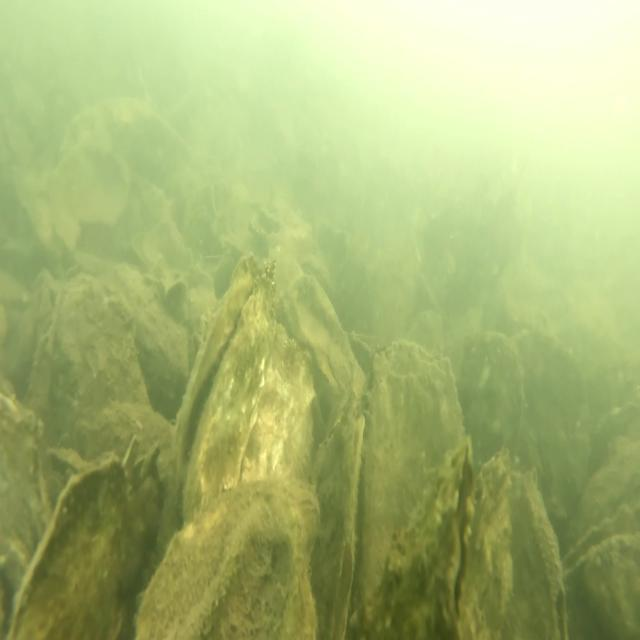Oyster-Closed: (359, 340, 464, 640), (45, 274, 149, 470), (310, 392, 365, 640), (0, 376, 50, 639)
Oyster-Indeterminate: (136, 481, 320, 640), (9, 458, 134, 640), (284, 268, 365, 408), (509, 467, 569, 640), (453, 331, 522, 470), (468, 450, 513, 640)
Oyster-Open: (160, 255, 320, 554), (364, 435, 473, 640), (561, 505, 640, 640)
